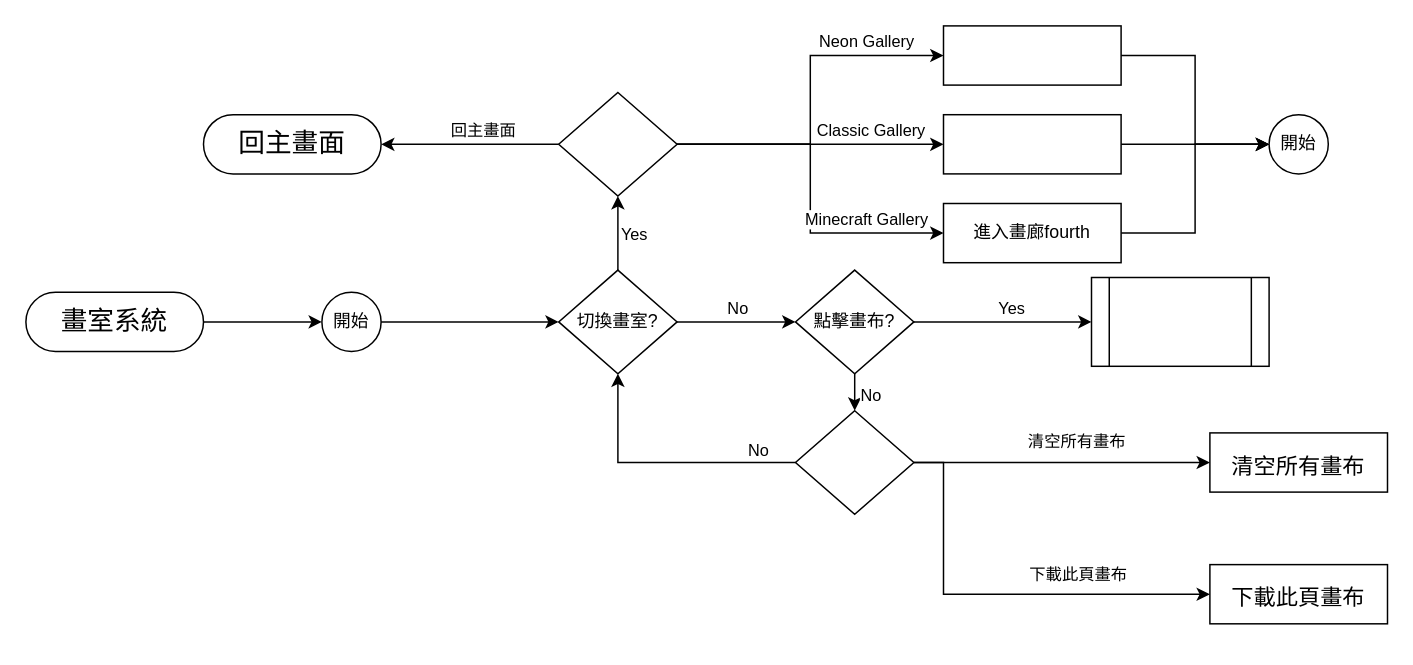
The diagram is 1413 pixels wide and 665 high, and some of its shapes have lost their labels. Each missing label, with the centre of its shape:
畫布系統: the point at 1179,321
進入畫廊second: the point at 1031,54
進入畫廊third: the point at 1031,143
選擇畫室?: the point at 617,143
點擊功能鍵?: the point at 854,461
